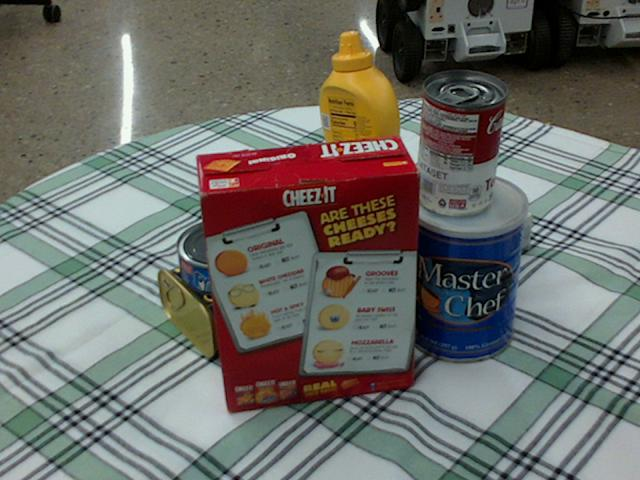cracker_box: (191, 135, 417, 410)
gelatin_box: (303, 176, 400, 247)
master_chef_can: (404, 170, 528, 362)
mug: (268, 212, 368, 330)
mustard_bottle: (318, 32, 409, 226)
potted_meat_can: (159, 246, 288, 357)
sugar_box: (348, 183, 531, 304)
tomato_soup_can: (416, 70, 504, 215)
tuna_fish_can: (176, 217, 271, 297)
